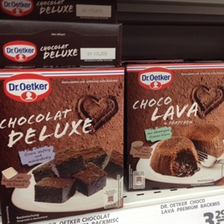cake: (1, 65, 125, 224), (126, 63, 224, 193)
